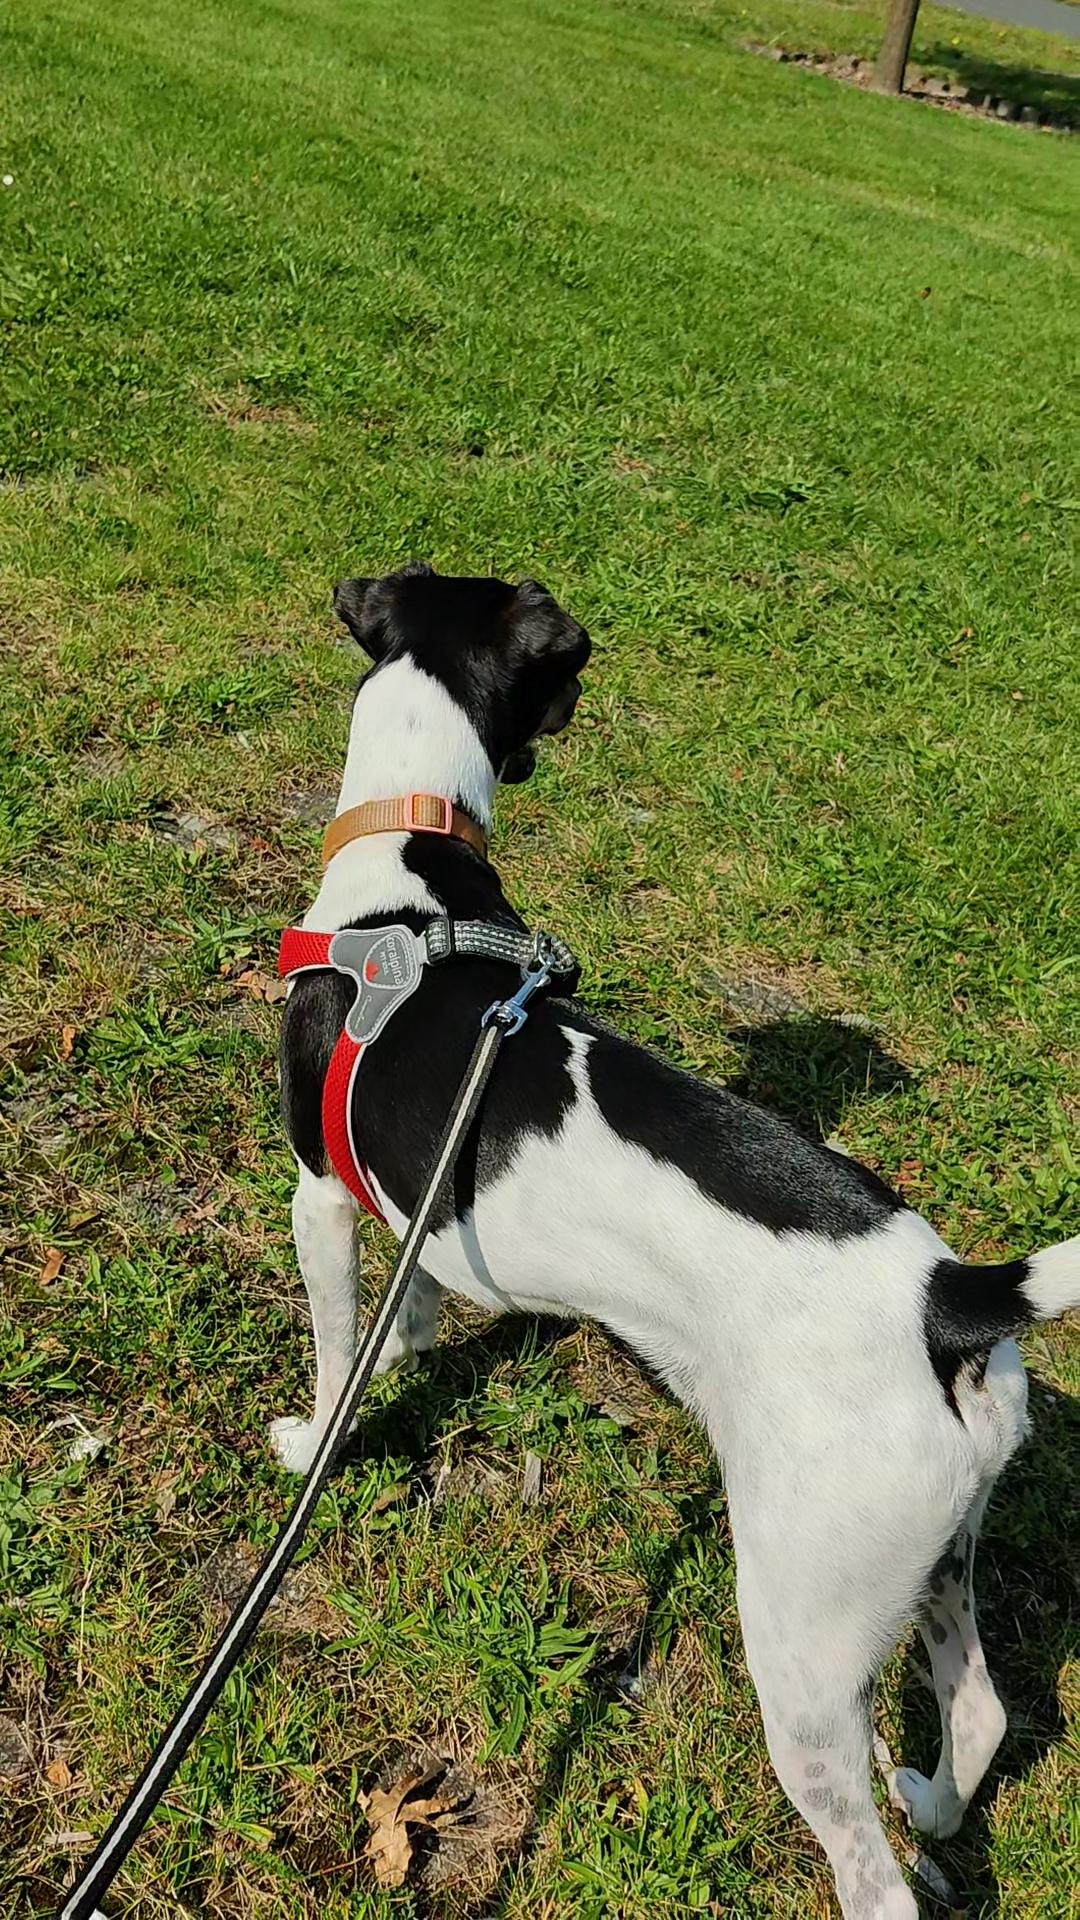Dog: (252, 554, 1079, 1919)
